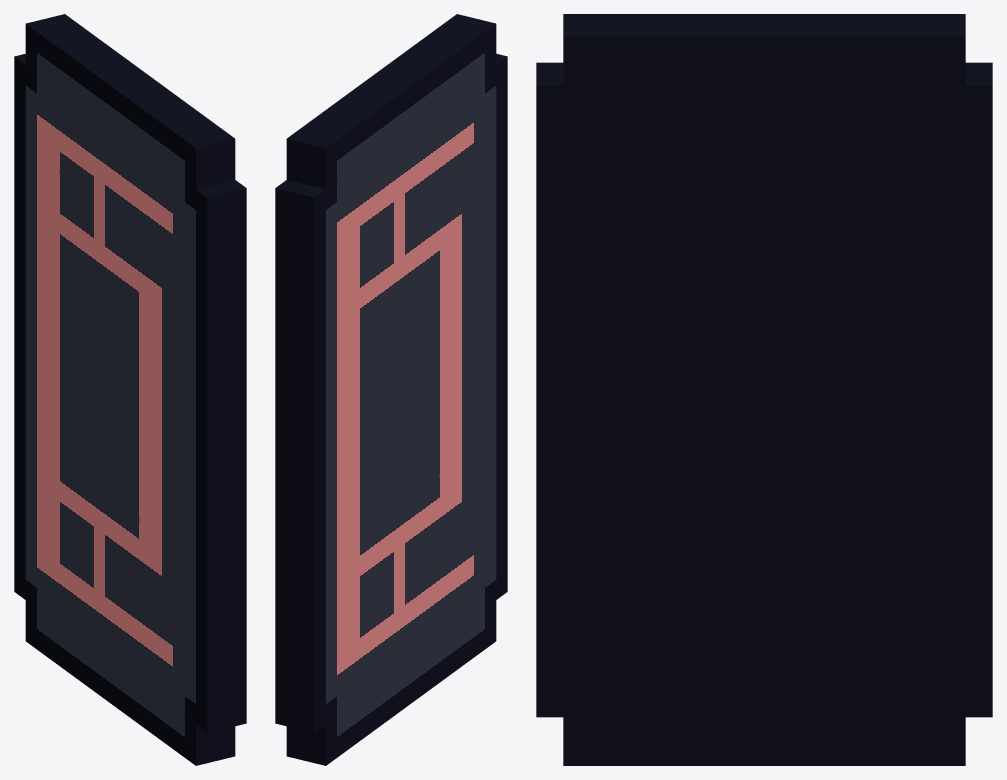
File: literki_neo_4.dae
The picture shows the model from 3 angles, left to right: view 1: azimuth 30°, elevation 25°; view 2: azimuth 150°, elevation 25°; view 3: azimuth 270°, elevation 25°; orthographic projection. The views are drawn at different scales.
Parts seen in each view (by area): view 1: Content; view 2: Content; view 3: Content.
Part boxes in pixels (x1,y1,x2,y2): Content: (14,14,246,765); Content: (275,14,507,765); Content: (536,14,992,765).
Size of the model in its own units: 2 by 30 by 17.
Materials: 1 (1 with a texture image).
